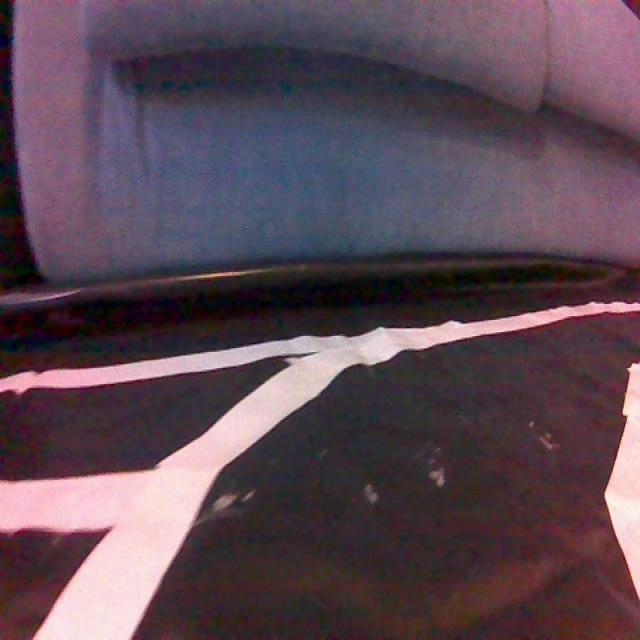LineaCarril: (0, 302, 640, 638), (605, 363, 640, 598)
